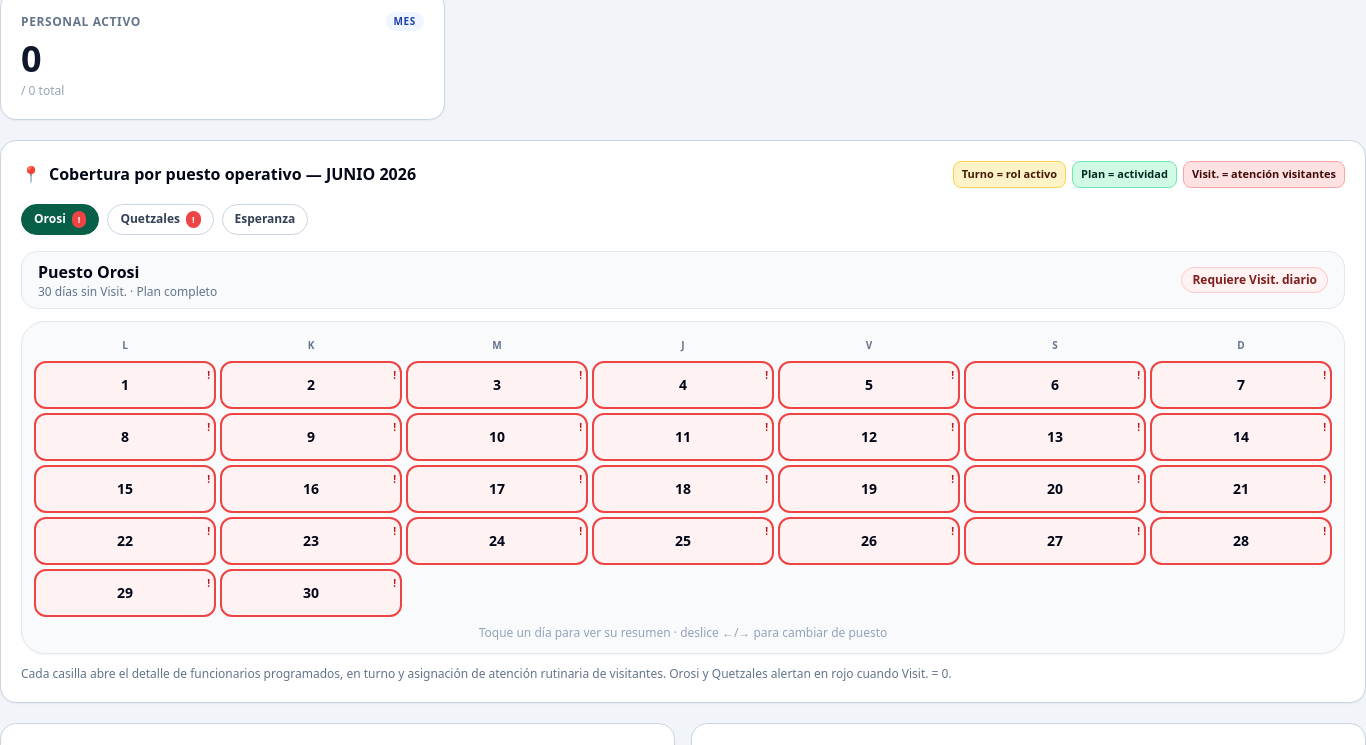
Scenario: Dashboard — mini-calendario de cobertura en móvil › desde el panel se abre el modal de detalle completo (mismo de la grilla)
The image size is (1366, 745).
(page scrolled)
Click the button named "Resumen del día 5".
click(869, 384)  # box [778,360,960,408]
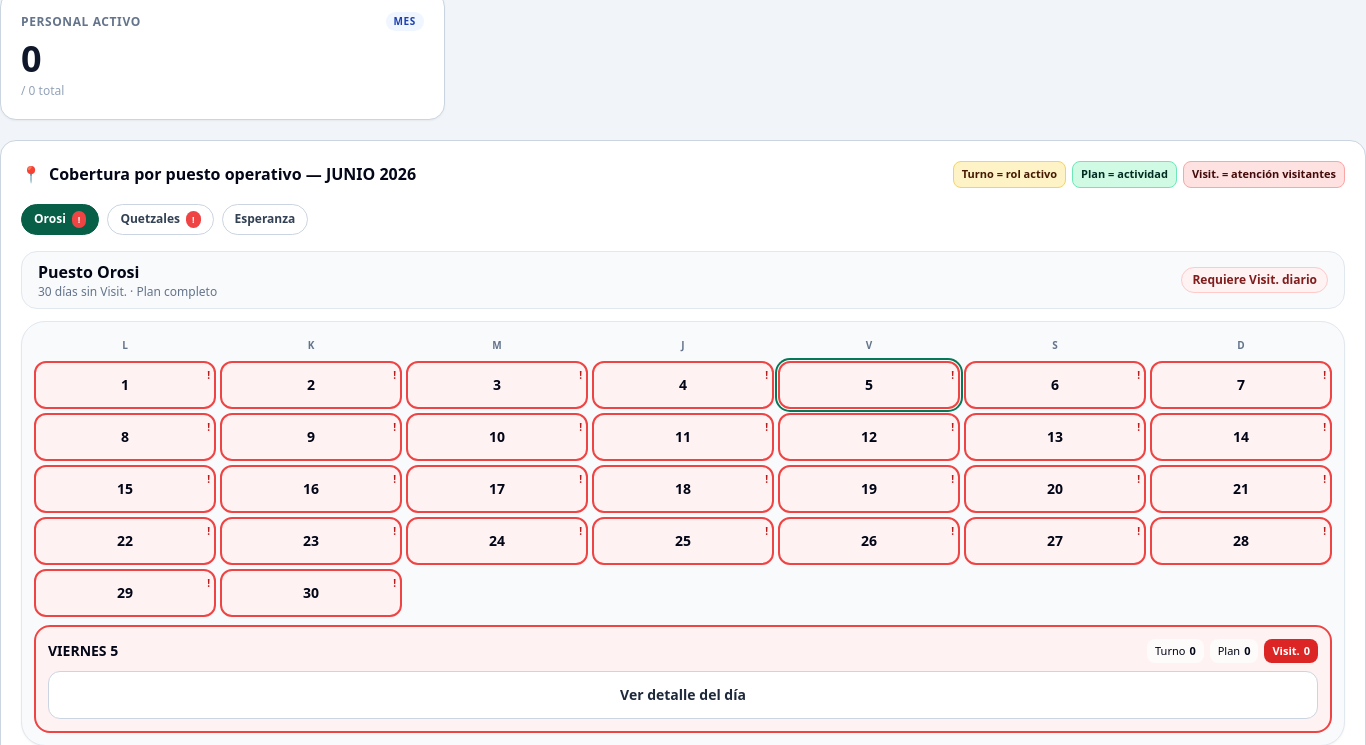
Click the button "Ver detalle del día".
click(683, 695)  # box [48,671,1318,719]
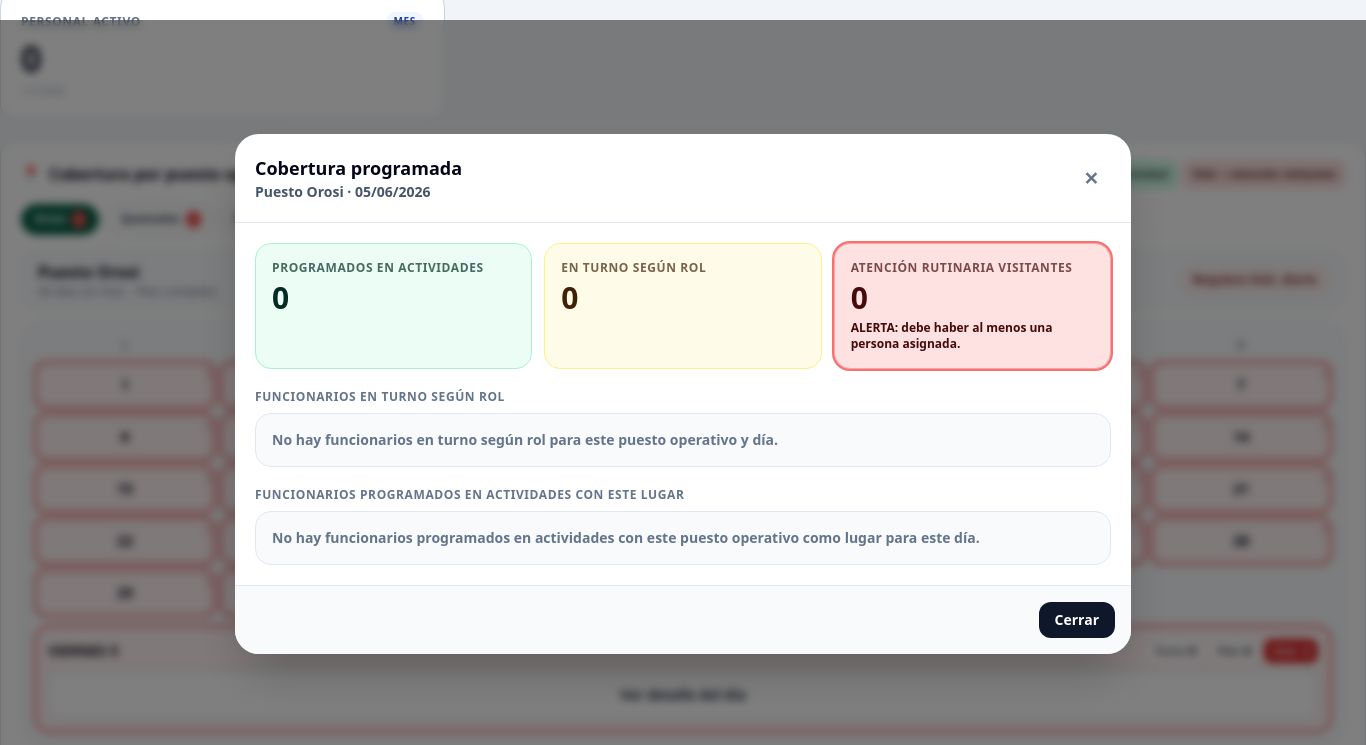
Check: the dialog is shown, box [235,134,1131,654]
